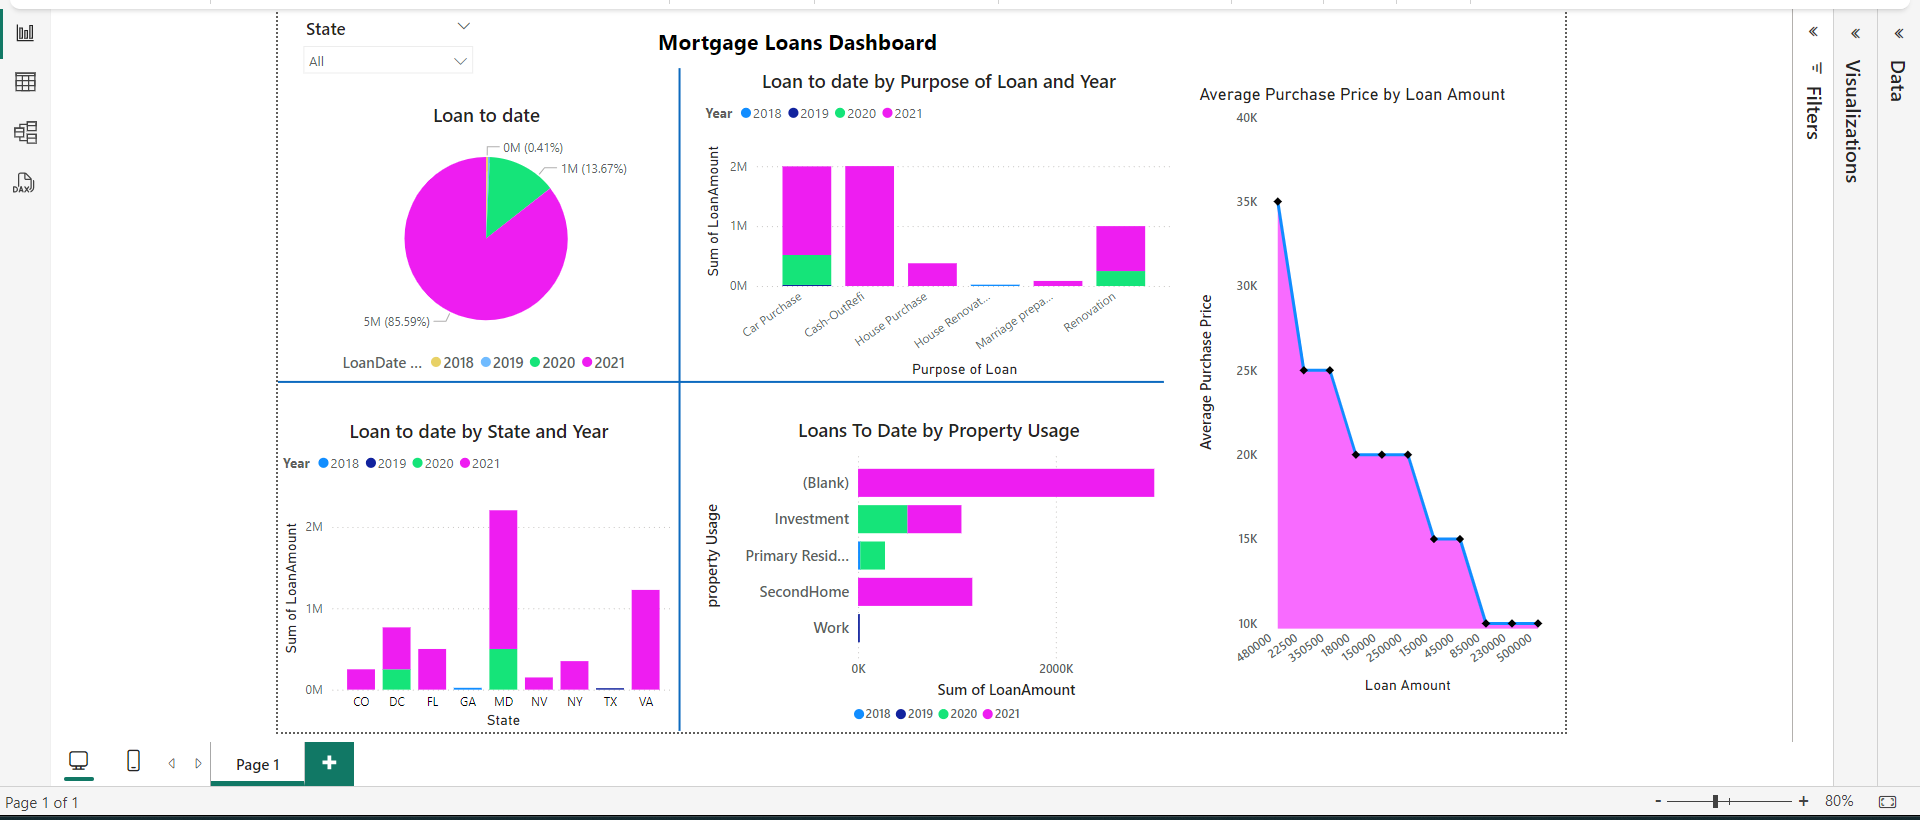

The dashboard page shown, as its layout file describes it:
{"tool":"powerbi","page":{"name":"Page 1","canvas":[1280,720],"ordinal":0},"visuals":[{"type":"pieChart","title":"Loan to date","fields":{"Y":["Sum(Loan_details.LoanAmount)"],"Category":["Loan_details.LoanDate.Variation.Date Hierarchy.Year"]},"box":[14.9,92.1,384.8,279.1],"z":0},{"type":"columnChart","title":"Loan to date by State and Year","fields":{"Y":["Sum(Loan_details.LoanAmount)"],"Series":["Loan_details.LoanDate.Variation.Date Hierarchy.Year"],"Category":["Borrower_details.State"]},"box":[0,406.4,399.7,314.3],"z":1000},{"type":"columnChart","title":"Loan to date by Purpose of Loan and Year","fields":{"Y":["Sum(Loan_details.LoanAmount)"],"Category":["Loan_details.Purpose of Loan"],"Series":["Loan_details.LoanDate.Variation.Date Hierarchy.Year"]},"box":[420,58.3,474.2,313],"z":2000},{"type":"barChart","title":"Loans To Date by Property Usage","fields":{"Category":["Property_details.Property Usage"],"Y":["Sum(Loan_details.LoanAmount)"],"Series":["Loan_details.LoanDate.Variation.Date Hierarchy.Year"]},"box":[420,405.1,474.2,314.3],"z":3000},{"type":"shape","box":[0,214.1,882,314.3],"z":4000},{"type":"shape","box":[304.8,55.5,189.7,662.5],"z":5000},{"type":"slicer","fields":{"Values":["Borrower_details.State"]},"box":[15.1,2.7,189.4,71.4],"z":6000},{"type":"textbox","box":[239.8,12.2,554.1,46.1],"z":7000},{"type":"stackedAreaChart","fields":{"Category":["Loan_details.LoanAmount"],"Y":["Avg(Loan_details.Purchase Price)"]},"box":[911.8,74.5,357.7,611],"z":8000}]}

Visuals, with their boxes on the page's 1280x720 design canvas (x1, y1, x2, y2). These are canvas units, not pixel positions in the 1920x820 screenshot, which may show the page scaled, cropped or inside an application window:
"Loan to date" pieChart: <box>15,92,400,371</box>
"Loan to date by State and Year" columnChart: <box>0,406,400,721</box>
"Loan to date by Purpose of Loan and Year" columnChart: <box>420,58,894,371</box>
"Loans To Date by Property Usage" barChart: <box>420,405,894,719</box>
shape: <box>0,214,882,528</box>
shape: <box>305,56,494,718</box>
slicer - Borrower_details.State: <box>15,3,204,74</box>
textbox: <box>240,12,794,58</box>
stackedAreaChart - Loan_details.LoanAmount x Avg(Loan_details.Purchase Price): <box>912,74,1270,686</box>
